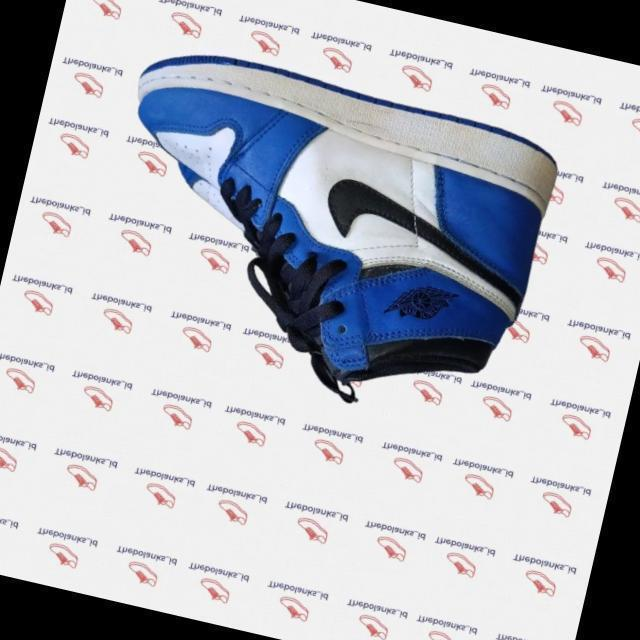nike fake jordan 1: (76, 39, 566, 418)
